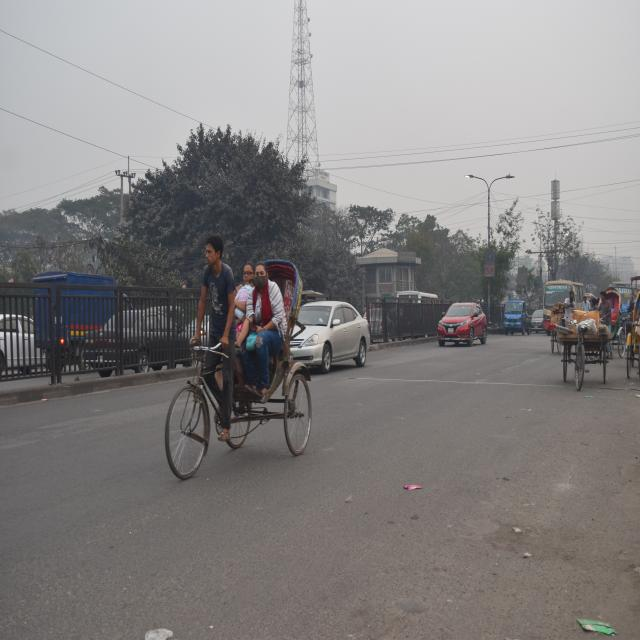bus: (542, 281, 586, 319)
car: (294, 288, 370, 383), (438, 294, 490, 354)
pickup-van: (502, 296, 530, 336)
